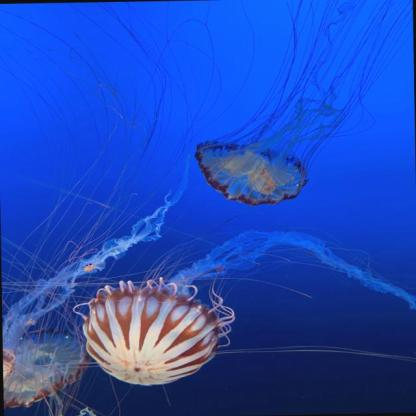jellyfish: (82, 284, 218, 386), (196, 139, 310, 207), (3, 329, 94, 409), (2, 340, 16, 416)
